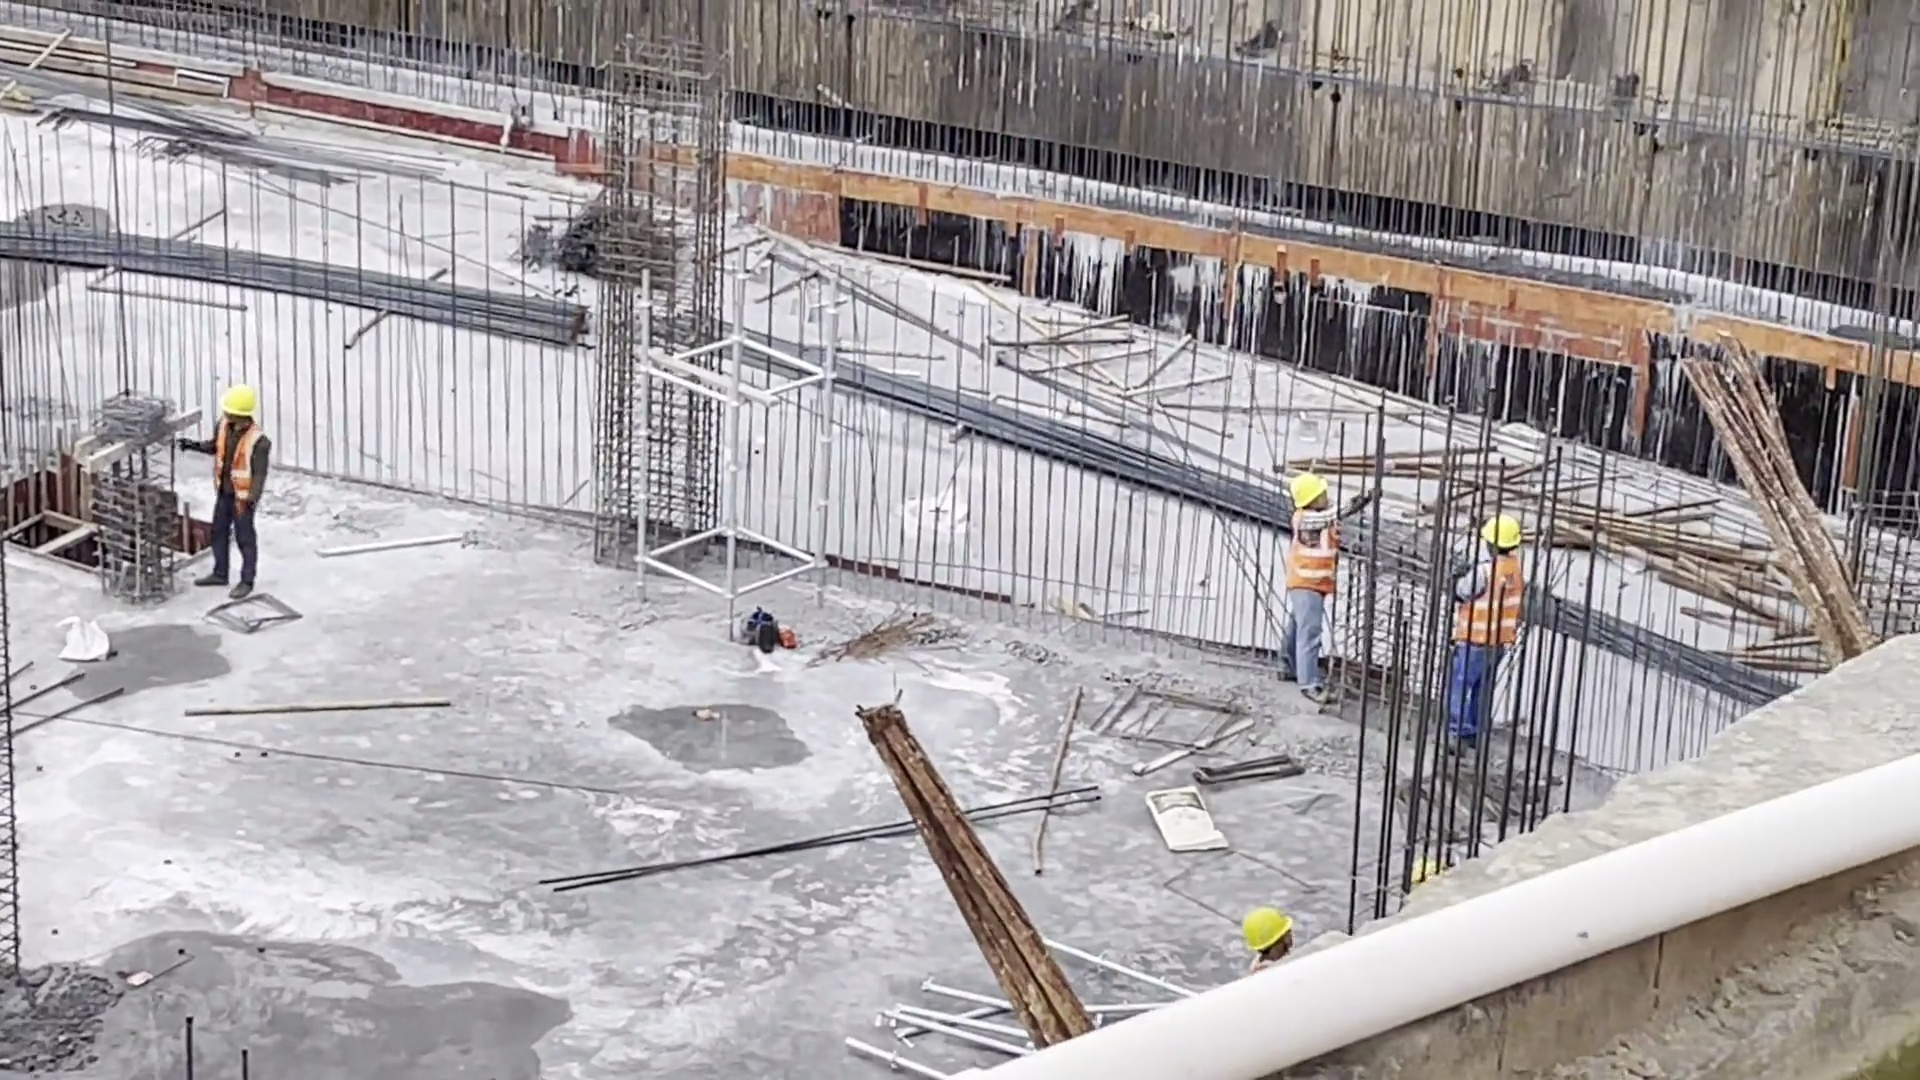helmet: (1240, 909, 1296, 949), (213, 381, 267, 422), (1482, 512, 1523, 555), (1288, 472, 1329, 506)
person: (1278, 451, 1366, 712), (198, 367, 275, 601), (1459, 508, 1529, 759)
vest: (1463, 555, 1524, 655), (1288, 512, 1344, 595), (212, 423, 263, 508)
